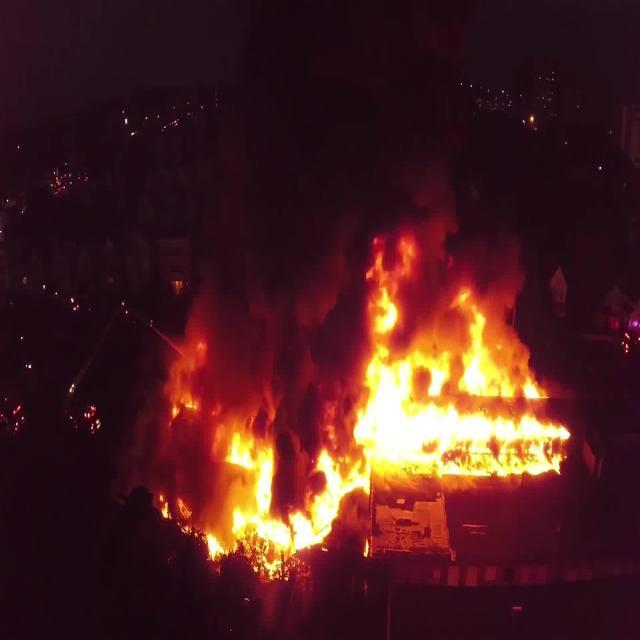Fire: (342, 282, 578, 488), (184, 391, 358, 583)
Smoke: (159, 248, 359, 474), (337, 198, 532, 341)
